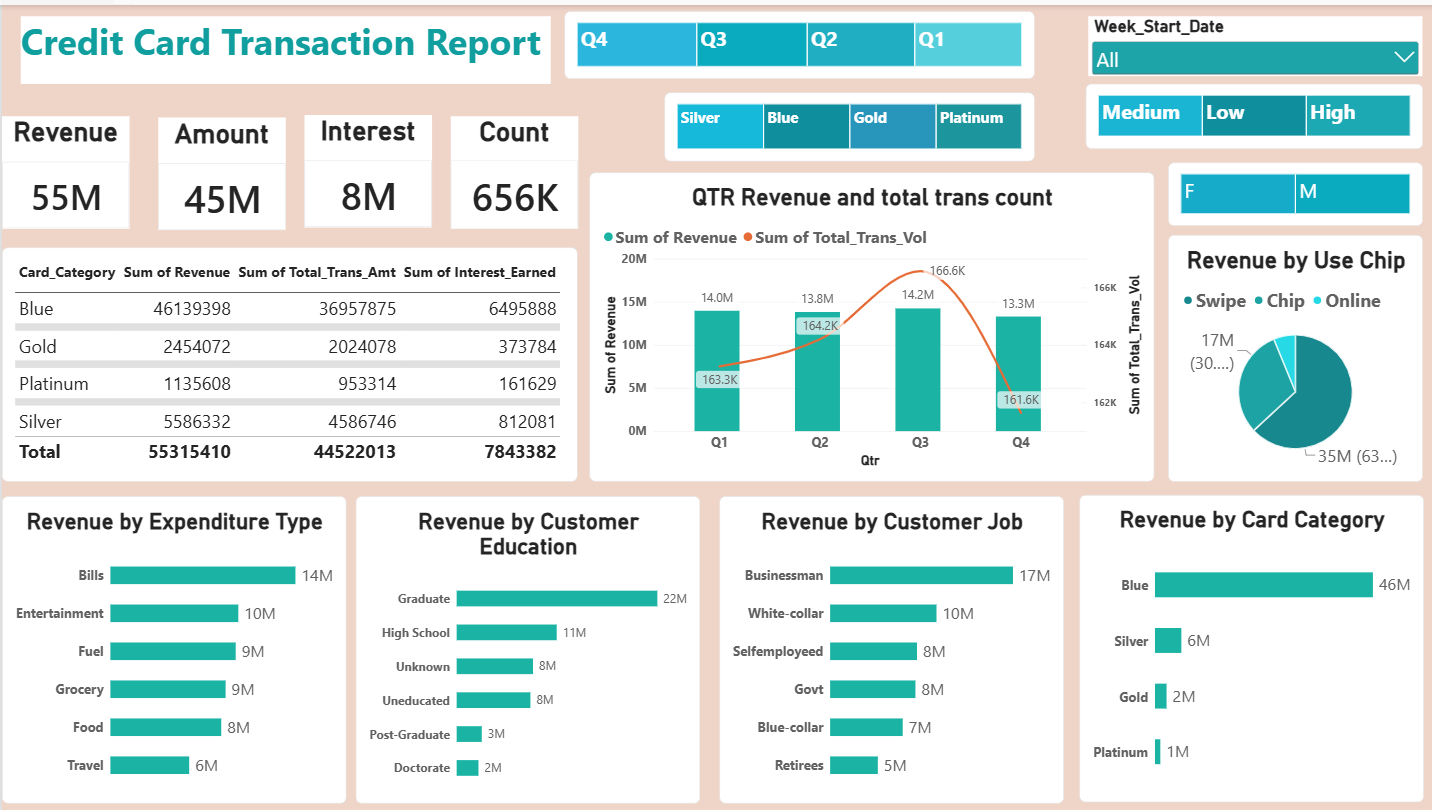

What the dashboard file says about the page in this screenshot:
{"tool":"powerbi","page":{"name":"CC Transaction","canvas":[1920,1080],"ordinal":0},"visuals":[{"type":"textbox","box":[24.7,14.4,708.1,90.6],"z":0},{"type":"lineStackedColumnComboChart","title":"QTR Revenue and total trans count","fields":{"Category":["Credit_card.Qtr"],"Y":["Sum(Credit_card.Revenue)"],"Y2":["Sum(Credit_card.Total_Trans_Vol)"]},"box":[785.4,224.4,754.6,412.6],"z":1000},{"type":"barChart","title":"Revenue by Expenditure Type","fields":{"Category":["Credit_card.Exp Type"],"Y":["Sum(Credit_card.Revenue)"]},"box":[0,656.9,460,410],"z":2000},{"type":"barChart","title":"Revenue by Customer Education ","fields":{"Category":["Customer.Education_Level"],"Y":["Sum(Credit_card.Revenue)"]},"box":[472.3,656.9,460,410],"z":3000},{"type":"barChart","title":"Revenue by Customer Job ","fields":{"Category":["Customer.Customer_Job"],"Y":["Sum(Credit_card.Revenue)"]},"box":[959.1,656.9,460,410],"z":4000},{"type":"barChart","title":"Revenue by Card Category","fields":{"Category":["Credit_card.Card_Category"],"Y":["Sum(Credit_card.Revenue)"]},"box":[1438.7,655.1,460,410],"z":5000},{"type":"pieChart","title":"Revenue by Use Chip","fields":{"Category":["Credit_card.Use Chip"],"Y":["Sum(Credit_card.Revenue)"]},"box":[1558.1,307.6,340.2,329.4],"z":6000},{"type":"tableEx","fields":{"Values":["Credit_card.Card_Category","Sum(Credit_card.Revenue)","Sum(Credit_card.Total_Trans_Amt)","Sum(Credit_card.Interest_Earned)"]},"box":[0,323.9,769.1,313.1],"z":7000},{"type":"cardVisual","title":"Revenue","fields":{"Data":["Sum(Credit_card.Revenue)"]},"box":[0,148.4,170,150],"z":8000},{"type":"cardVisual","title":"Amount","fields":{"Data":["Sum(Credit_card.Total_Trans_Amt)"]},"box":[208.1,150.2,170,150],"z":9000},{"type":"cardVisual","title":"Interest","fields":{"Data":["Sum(Credit_card.Interest_Earned)"]},"box":[403.6,146.6,170,150],"z":10000},{"type":"cardVisual","title":"Count","fields":{"Data":["Sum(Credit_card.Total_Trans_Vol)"]},"box":[599,148.4,170,150],"z":11000},{"type":"slicer","fields":{"Values":["Credit_card.Week_Start_Date"]},"box":[1451.3,14.5,446.7,80.3],"z":12000},{"type":"treemap","fields":{"Group":["Customer.Gender"],"Values":["Avg(Credit_card.Client_Num)"]},"box":[1558.1,209.9,340.2,85.1],"z":13000},{"type":"treemap","fields":{"Group":["Credit_card.Card_Category"],"Values":["Avg(Credit_card.Client_Num)"]},"box":[884.9,117.6,494,92.3],"z":14000},{"type":"treemap","fields":{"Group":["Customer.IncomeGroup"],"Values":["Avg(Credit_card.Client_Num)"]},"box":[1447.7,105,450.6,86.9],"z":15000},{"type":"treemap","fields":{"Group":["Credit_card.Qtr"],"Values":["Avg(Credit_card.Client_Num)"]},"box":[751,9,628,90.5],"z":16000}]}

Visuals, with their boxes in screenshot pixels (x1, y1, x2, y2), scaled from the page's 1920x1080 canvas onto the 1432x810 screenshot:
textbox: (x1=18, y1=11, x2=547, y2=79)
"QTR Revenue and total trans count" lineStackedColumnComboChart: (x1=586, y1=168, x2=1149, y2=478)
"Revenue by Expenditure Type" barChart: (x1=0, y1=493, x2=343, y2=800)
"Revenue by Customer Education " barChart: (x1=352, y1=493, x2=695, y2=800)
"Revenue by Customer Job " barChart: (x1=715, y1=493, x2=1058, y2=800)
"Revenue by Card Category" barChart: (x1=1073, y1=491, x2=1416, y2=799)
"Revenue by Use Chip" pieChart: (x1=1162, y1=231, x2=1416, y2=478)
tableEx - Credit_card.Card_Category x Sum(Credit_card.Revenue): (x1=0, y1=243, x2=574, y2=478)
"Revenue" cardVisual: (x1=0, y1=111, x2=127, y2=224)
"Amount" cardVisual: (x1=155, y1=113, x2=282, y2=225)
"Interest" cardVisual: (x1=301, y1=110, x2=428, y2=222)
"Count" cardVisual: (x1=447, y1=111, x2=574, y2=224)
slicer - Credit_card.Week_Start_Date: (x1=1082, y1=11, x2=1416, y2=71)
treemap - Customer.Gender x Avg(Credit_card.Client_Num): (x1=1162, y1=157, x2=1416, y2=221)
treemap - Credit_card.Card_Category x Avg(Credit_card.Client_Num): (x1=660, y1=88, x2=1028, y2=157)
treemap - Customer.IncomeGroup x Avg(Credit_card.Client_Num): (x1=1080, y1=79, x2=1416, y2=144)
treemap - Credit_card.Qtr x Avg(Credit_card.Client_Num): (x1=560, y1=7, x2=1029, y2=75)
